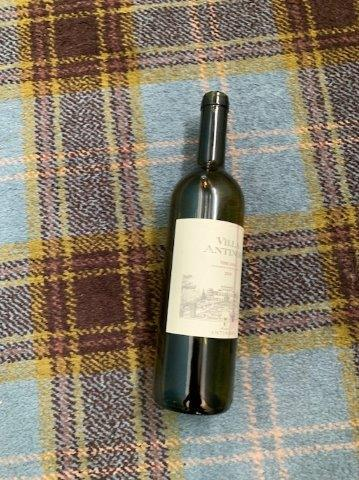botolkaca: (154, 91, 245, 416)
